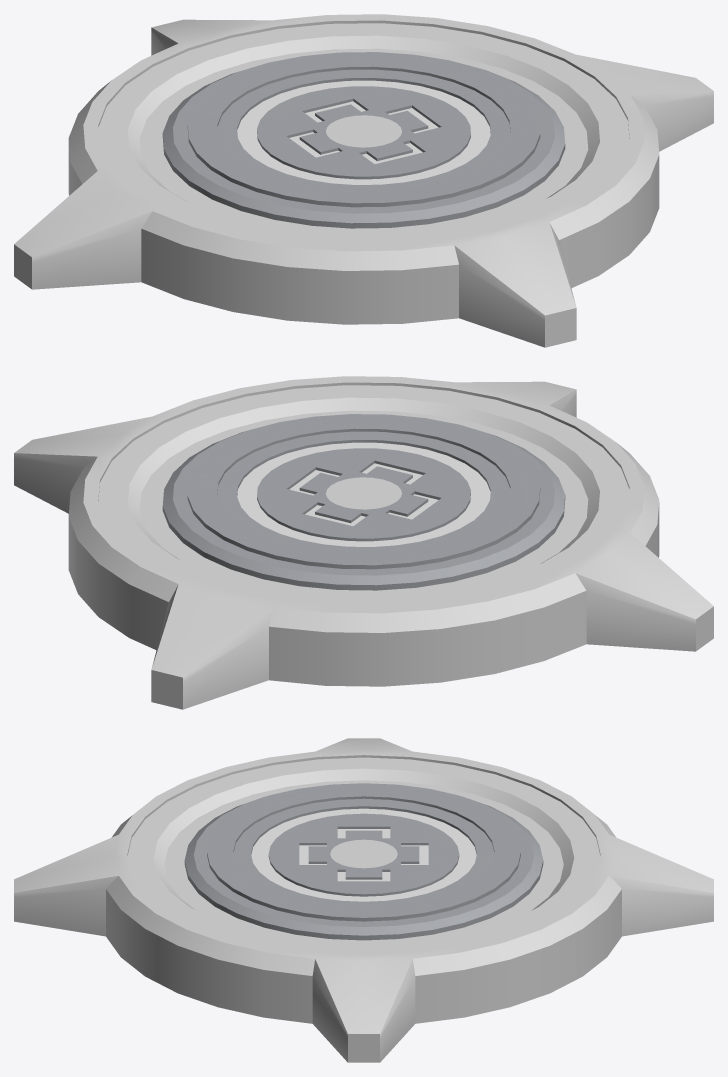
The model's file is SpaceshipPad.fbx.
3 views of the same model, one above another, from view 1: azimuth 30°, elevation 25°; view 2: azimuth 150°, elevation 25°; view 3: azimuth 270°, elevation 25° (orthographic). The views are drawn at different scales.
Parts seen in each view (by area): view 1: SpaceShipPlatform; view 2: SpaceShipPlatform; view 3: SpaceShipPlatform.
Part boxes in pixels (box(x1,y1,x2,y2)): SpaceShipPlatform: box(14, 14, 713, 347); SpaceShipPlatform: box(14, 376, 713, 709); SpaceShipPlatform: box(14, 738, 713, 1062).
Bounding box in the file's own units: 2.66 × 0.265 × 2.66.
